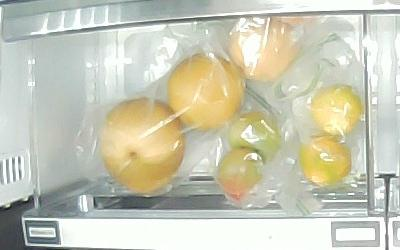peach_vinyl: (230, 18, 299, 82)
pear_vinyl: (99, 97, 187, 195), (167, 53, 246, 130)
tangerine_vinyl: (311, 85, 362, 136), (301, 136, 351, 183)
tomato_vinyl: (227, 109, 282, 162), (218, 148, 264, 202)
